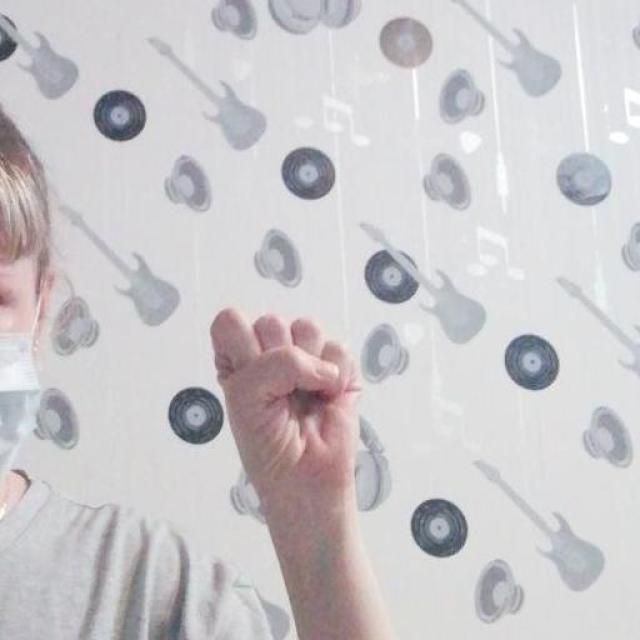hand: (208, 305, 362, 507)
